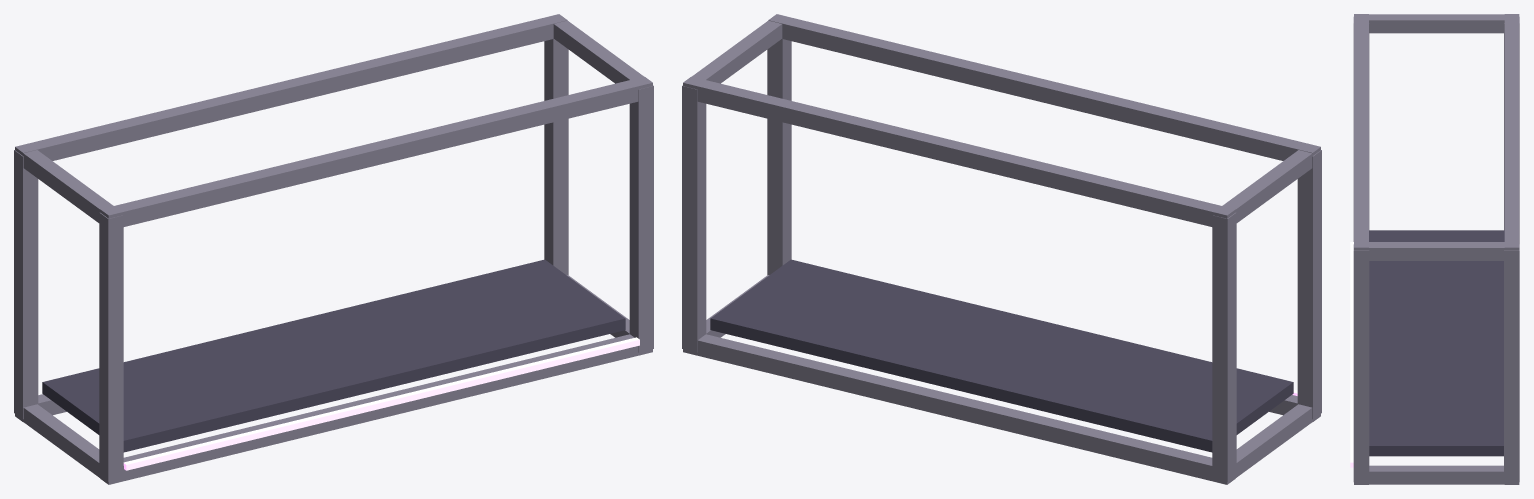
Rendered from rig-empty.glb.
3 views of the same model, side by side, from view 1: azimuth 30°, elevation 25°; view 2: azimuth 150°, elevation 25°; view 3: azimuth 270°, elevation 25° (orthographic). The views are drawn at different scales.
Parts seen in each view (by area): view 1: base, rack rail (×3), rack post (×4), cross rail (×3), base LED; view 2: base, rack rail (×3), rack post (×4), cross rail (×3); view 3: base, rack post (×4), cross rail (×3), rack rail (×2), base LED.
Part boxes in pixels (bbox=[...]): base: bbox=[42, 259, 625, 452]; rack rail (×3): bbox=[15, 14, 652, 484]; rack post (×4): bbox=[14, 27, 653, 481]; cross rail (×3): bbox=[15, 20, 643, 481]; base LED: bbox=[123, 337, 639, 470]; base: bbox=[710, 259, 1293, 452]; rack rail (×3): bbox=[683, 14, 1320, 484]; rack post (×4): bbox=[682, 27, 1321, 481]; cross rail (×3): bbox=[692, 20, 1312, 483]; base: bbox=[1369, 230, 1504, 456]; rack post (×4): bbox=[1353, 17, 1519, 482]; cross rail (×3): bbox=[1355, 14, 1517, 484]; rack rail (×2): bbox=[1354, 14, 1519, 250]; base LED: bbox=[1350, 242, 1353, 467].
Size of the model in its own units: 3.91 by 1.85 by 1.19.
